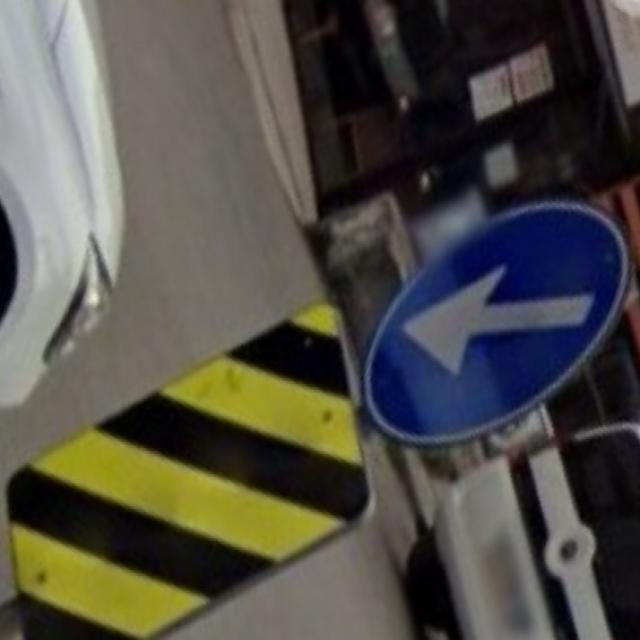Turn Left: (375, 225, 604, 425)
